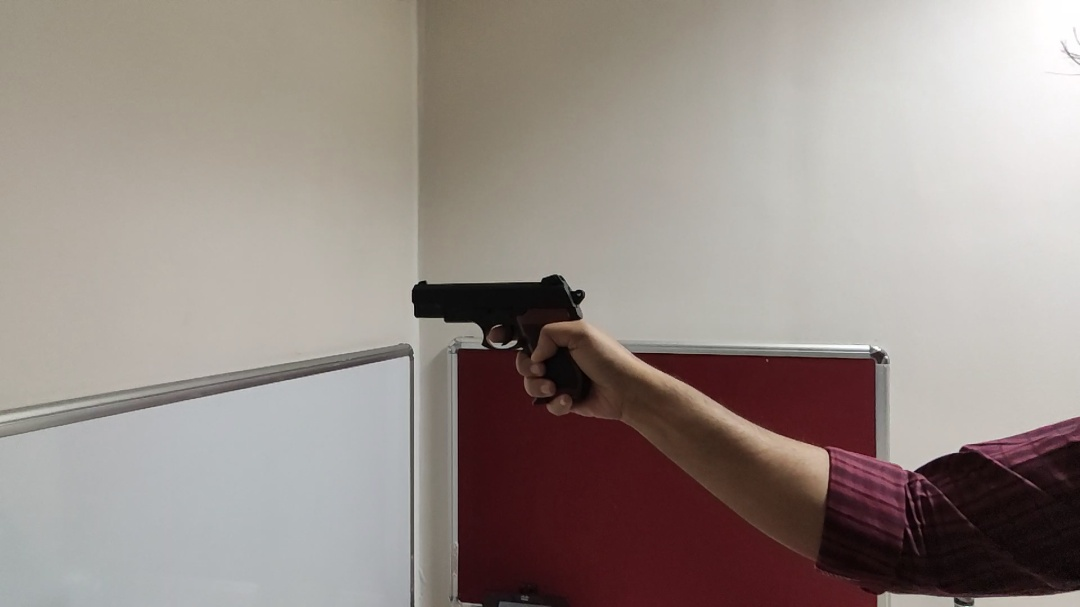gun: (410, 273, 595, 408)
